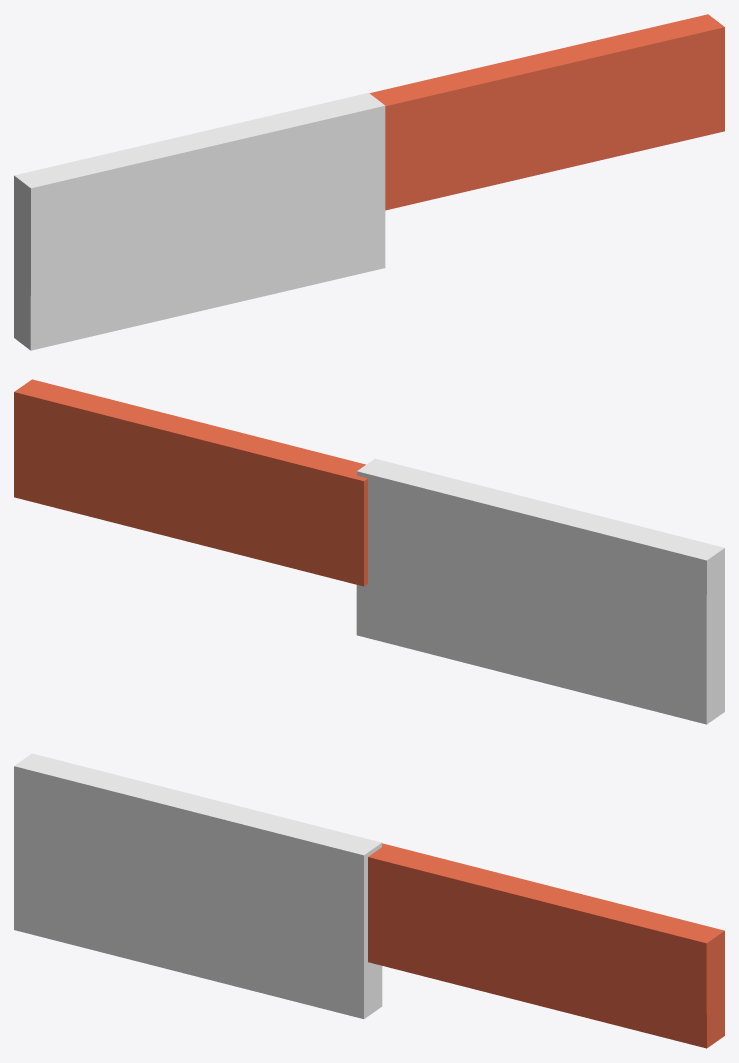
Rendered from knife.FBX.
The picture shows the model from 3 angles, top to bottom: view 1: azimuth 30°, elevation 25°; view 2: azimuth 150°, elevation 25°; view 3: azimuth 330°, elevation 25°; orthographic projection.
Parts seen in each view (by area): view 1: Box027, Box026; view 2: Box027, Box026; view 3: Box027, Box026.
Part boxes in pixels (bbox=[...]): Box027: bbox=[14, 93, 385, 350]; Box026: bbox=[370, 14, 724, 210]; Box027: bbox=[356, 458, 724, 724]; Box026: bbox=[14, 379, 367, 586]; Box027: bbox=[14, 753, 382, 1018]; Box026: bbox=[368, 843, 724, 1048].
Bounding box in the file's own units: 9.26 × 2.08 × 0.4981.
